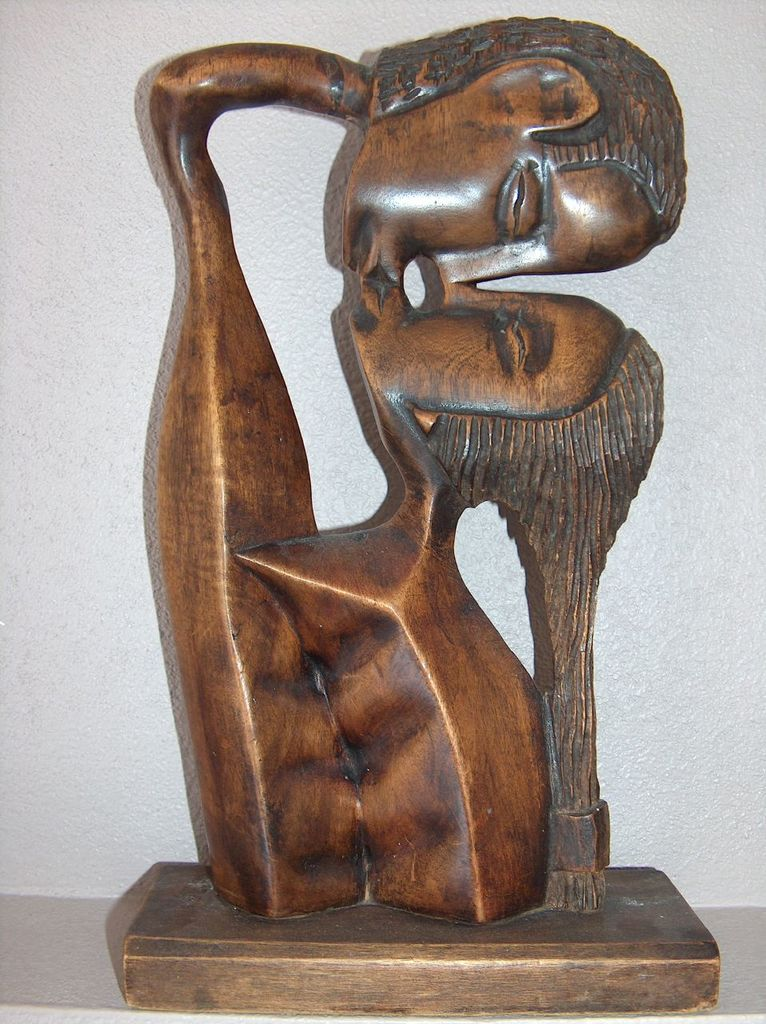face: (355, 21, 627, 388)
